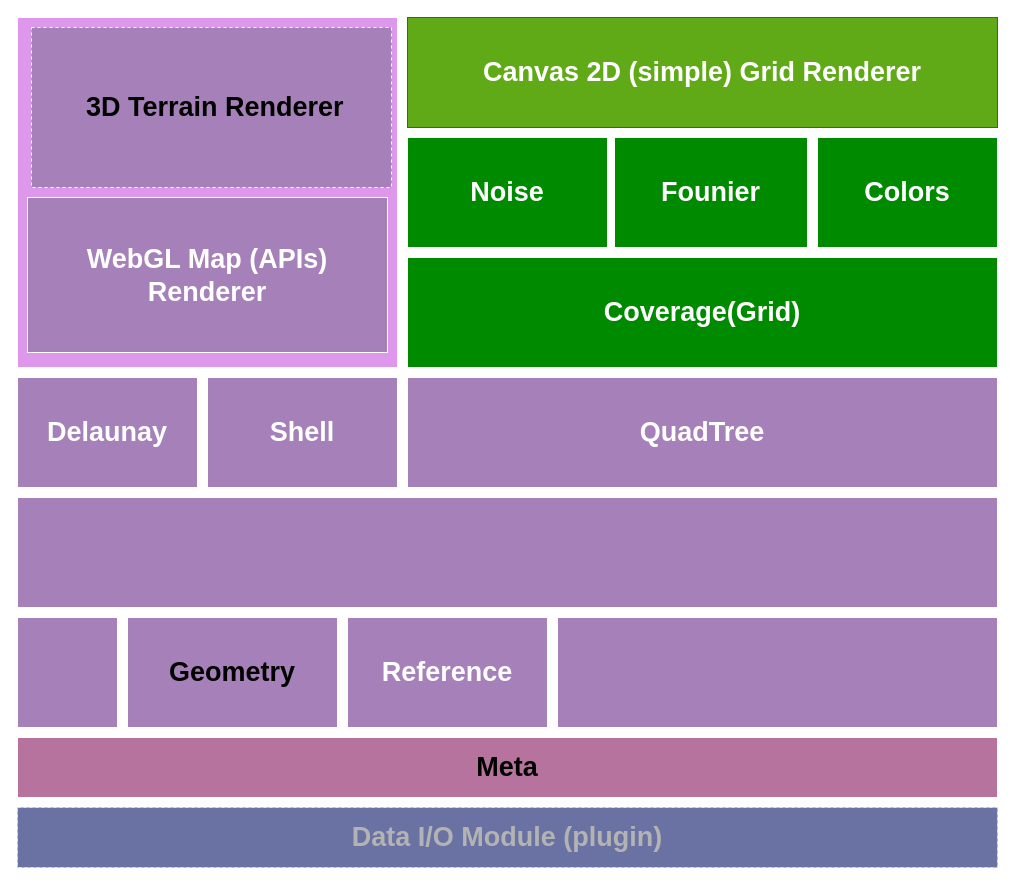
Image size: 1015x885. Some labels were removed from this diagram. Each missing label, with the box of its shape:
Measuration: (556, 616, 998, 728)
Spatial computing module(CGUtils): (16, 496, 998, 608)
Unit: (16, 616, 118, 728)
